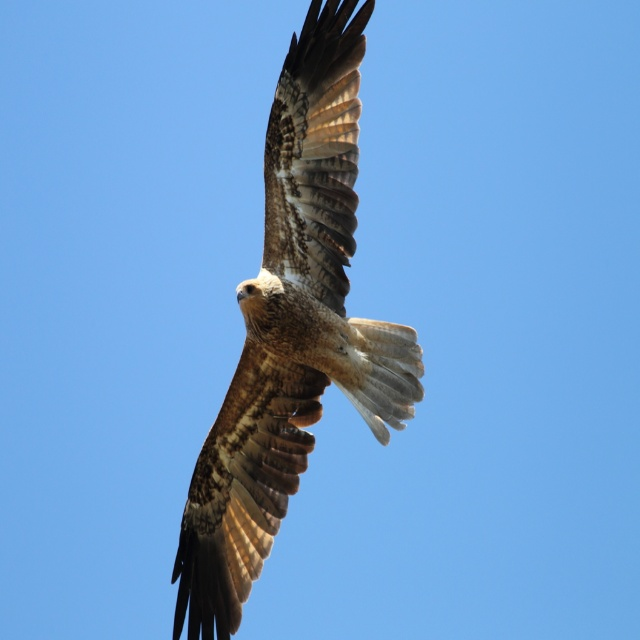Eagle: (162, 0, 439, 640)
